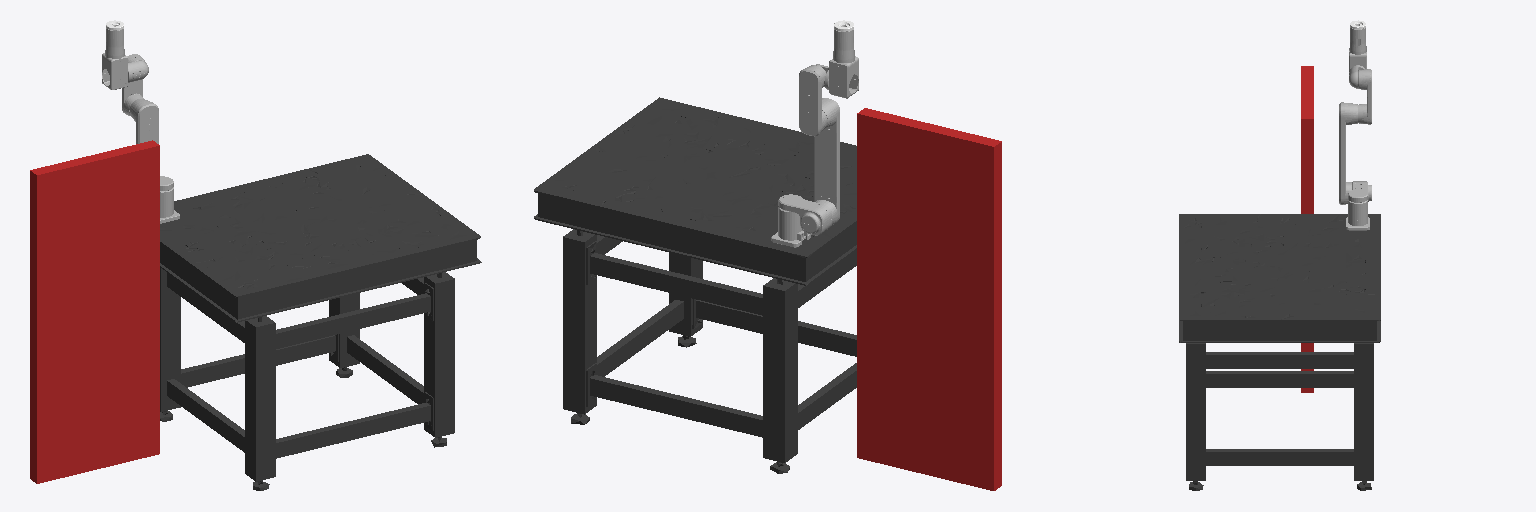
The robot description file, URDF, robot "single_arm":
<?xml version="1.0" ?>
<!-- =================================================================================== -->
<!-- |    This document was autogenerated by xacro from [local-path]/single_arm_ros2/src/single_arm_description/config/single_arm_demo.urdf.xacro | -->
<!-- |    EDITING THIS FILE BY HAND IS NOT RECOMMENDED                                 | -->
<!-- =================================================================================== -->
<robot name="single_arm">
  <!-- 在机械臂末端添加夹爪 -->
  <link name="world"/>
  <!-- 光学平台链接，使用你的 table.stl -->
  <link name="optical_table">
    <visual>
      <!-- 根据你的STL坐标系调整origin（例如：如果STL原点在底部中心，把平台表面抬到z=0） -->
      <origin rpy="0 0 0" xyz="0 0 0"/>
      <!-- 示例：假设table厚度0.3m，把表面抬到z=0，可自行调整 -->
      <geometry>
        <mesh filename="package://single_arm_description/meshes/visual/table.STL" scale="0.001 0.001 0.001"/>
        <!-- 如果是mm单位，scale=0.001 -->
      </geometry>
      <material name="table_gray">
        <color rgba="0.3 0.3 0.3 1.0"/>
        <!-- 深灰色，典型光学平台颜色 -->
      </material>
    </visual>
    <collision>
      <origin rpy="0 0 0" xyz="0 0 0"/>
      <!-- 与visual保持一致 -->
      <geometry>
        <mesh filename="package://single_arm_description/meshes/collision/table_simplified.STL" scale="0.001 0.001 0.001"/>
        <!-- 建议用简化版STL -->
      </geometry>
    </collision>
    <!-- 可选：添加惯性（粗略估计，质量和惯性根据实际平台调整） -->
    <inertial>
      <origin rpy="0 0 0" xyz="0 0 0"/>
      <mass value="50.0"/>
      <!-- 示例：50kg -->
      <inertia ixx="10.0" ixy="0.0" ixz="0.0" iyy="10.0" iyz="0.0" izz="15.0"/>
    </inertial>
  </link>
  <link name="obstacle_box">
    <visual>
      <!-- 底面放在平台表面（z=0），高度0.6m，中心抬高0.3m -->
      <origin rpy="0 0 1.5707963" xyz="-0.78 0.11 0.6"/>
      <geometry>
        <box size="0.05 0.5 1.2"/>
        <!-- x=0.4m, y=0.6m, z=0.6m，可自行调整 -->
      </geometry>
      <material name="obstacle_red">
        <color rgba="0.8 0.2 0.2 1.0"/>
        <!-- 红色，便于在RViz中识别 -->
      </material>
    </visual>
    <collision>
      <origin rpy="0 0 1.5707963" xyz="-0.78 0.11 0.6"/>
      <geometry>
        <box size="0.05 0.5 1.2"/>
      </geometry>
    </collision>
    <!-- 可选惯性 -->
    <inertial>
      <origin rpy="0 0 1.5707963" xyz="-0.78 0.11 0.6"/>
      <mass value="10.0"/>
      <inertia ixx="1.0" ixy="0" ixz="0" iyy="1.0" iyz="0" izz="1.0"/>
    </inertial>
  </link>
  <!-- 障碍物固定到world（与平台同层级） -->
  <joint name="obstacle_box_joint" type="fixed">
    <parent link="world"/>
    <child link="obstacle_box"/>
    <!-- 位置：放在平台右边（x正方向偏移1.2m），y=0，底面z=0 -->
    <!-- 你可以根据实际平台尺寸调整偏移量 -->
    <origin rpy="0 0 0" xyz="0 0 0"/>
  </joint>
  <!-- 把光学平台固定到world（或parent） -->
  <joint name="optical_table_joint" type="fixed">
    <parent link="world"/>
    <child link="optical_table"/>
    <origin rpy="0 0 0" xyz="0 0 0.8"/>
    <!-- 允许调用时指定整体偏移，例如放在房间某个位置 -->
  </joint>
  <link name="base_link0">
    <inertial>
      <origin rpy="0 0 0" xyz="0.000175438965895703 0.000532268611608213 0.0522669336069407"/>
      <mass value="0.294119348658744"/>
      <inertia ixx="0.00032400532756564" ixy="-5.40018128899478E-07" ixz="2.80958833443407E-06" iyy="0.000288426609563467" iyz="4.70285799717824E-06" izz="0.00022606419233657"/>
    </inertial>
    <visual>
      <origin rpy="0 0 0" xyz="0 0 0"/>
      <geometry>
        <mesh filename="package://single_arm_description/meshes/visual/base_link0.STL"/>
      </geometry>
      <material name="">
        <color rgba="0.752941176470588 0.752941176470588 0.752941176470588 1"/>
      </material>
    </visual>
    <collision>
      <origin rpy="0 0 0" xyz="0 0 0"/>
      <geometry>
        <mesh filename="package://single_arm_description/meshes/collision/base_link0_simplified.STL"/>
      </geometry>
    </collision>
  </link>
  <joint name="base_link0_joint" type="fixed">
    <parent link="optical_table"/>
    <child link="base_link0"/>
    <origin rpy="0 0 0" xyz="-0.39 0.31 0.0"/>
    <axis xyz="0 0 1"/>
  </joint>
  <link name="Empty_Link1">
    <inertial>
      <origin rpy="0 0 0" xyz="-0.0698160338667713 0.0143691484806762 0.0110780451265005"/>
      <mass value="0.0556965417664696"/>
      <inertia ixx="2.70633960140179E-05" ixy="6.26519650974738E-06" ixz="-7.57900465240318E-06" iyy="0.000122679596314603" iyz="-1.35387556070585E-08" izz="0.000131443137410343"/>
    </inertial>
    <visual>
      <origin rpy="0 0 0" xyz="0 0 0"/>
      <geometry>
        <mesh filename="package://single_arm_description/meshes/visual/Empty_Link1.STL"/>
      </geometry>
      <material name="">
        <color rgba="0.752941176470588 0.752941176470588 0.752941176470588 1"/>
      </material>
    </visual>
    <collision>
      <origin rpy="0 0 0" xyz="0 0 0"/>
      <geometry>
        <mesh filename="package://single_arm_description/meshes/collision/Empty_Link1_simplified.STL"/>
      </geometry>
    </collision>
  </link>
  <joint name="joint1" type="revolute">
    <origin rpy="0 0 0" xyz="0 0 0.0962"/>
    <parent link="base_link0"/>
    <child link="Empty_Link1"/>
    <axis xyz="0 0 1"/>
    <limit effort="0" lower="-3.14" upper="3.14" velocity="0"/>
  </joint>
  <link name="Empty_Link2">
    <inertial>
      <origin rpy="0 0 0" xyz="0.181439379971025 -0.000243727779993763 0.0563566127647854"/>
      <mass value="0.136910629397679"/>
      <inertia ixx="6.36253645667139E-05" ixy="-2.59780400404477E-07" ixz="3.91165512368072E-05" iyy="0.00232680960984668" iyz="2.19730518054456E-07" izz="0.00235460000620241"/>
    </inertial>
    <visual>
      <origin rpy="0 0 0" xyz="0 0 0"/>
      <geometry>
        <mesh filename="package://single_arm_description/meshes/visual/Empty_Link2.STL"/>
      </geometry>
      <material name="">
        <color rgba="0.752941176470588 0.752941176470588 0.752941176470588 1"/>
      </material>
    </visual>
    <collision>
      <origin rpy="0 0 0" xyz="0 0 0"/>
      <geometry>
        <mesh filename="package://single_arm_description/meshes/collision/Empty_Link2_simplified.STL"/>
      </geometry>
    </collision>
  </link>
  <joint name="joint2" type="revolute">
    <origin rpy="1.5708 -1.5708 0" xyz="-0.0965 0 0"/>
    <parent link="Empty_Link1"/>
    <child link="Empty_Link2"/>
    <axis xyz="0 0 -1"/>
    <limit effort="0" lower="-1.57" upper="1.57" velocity="0"/>
  </joint>
  <link name="Empty_Link3">
    <inertial>
      <origin rpy="0 0 0" xyz="0.0769703538179346 0.0011973381819983 -0.036630608037162"/>
      <mass value="0.071034581827702"/>
      <inertia ixx="2.84299236389363E-05" ixy="-7.63642211997418E-08" ixz="-3.24526804421142E-06" iyy="0.00034423782372923" iyz="7.76643137920171E-08" izz="0.000355286583426244"/>
    </inertial>
    <visual>
      <origin rpy="0 0 0" xyz="0 0 0"/>
      <geometry>
        <mesh filename="package://single_arm_description/meshes/visual/Empty_Link3.STL"/>
      </geometry>
      <material name="">
        <color rgba="0.752941176470588 0.752941176470588 0.752941176470588 1"/>
      </material>
    </visual>
    <collision>
      <origin rpy="0 0 0" xyz="0 0 0"/>
      <geometry>
        <mesh filename="package://single_arm_description/meshes/collision/Empty_Link3_simplified.STL"/>
      </geometry>
    </collision>
  </link>
  <joint name="joint3" type="revolute">
    <origin rpy="0 0 0" xyz="0.3465 0 0"/>
    <parent link="Empty_Link2"/>
    <child link="Empty_Link3"/>
    <axis xyz="0 0 -1"/>
    <limit effort="0" lower="-2.44" upper="2.44" velocity="0"/>
  </joint>
  <link name="Empty_Link4">
    <inertial>
      <origin rpy="0 0 0" xyz="0.000159906636227225 -0.0237750547972229 0.0101176007477914"/>
      <mass value="0.022184932643385"/>
      <inertia ixx="2.56758689481119E-05" ixy="2.79874296577121E-08" ixz="5.63284180274909E-09" iyy="1.10340049734087E-05" iyz="-4.22353915692278E-06" izz="1.97133811530173E-05"/>
    </inertial>
    <visual>
      <origin rpy="0 0 0" xyz="0 0 0"/>
      <geometry>
        <mesh filename="package://single_arm_description/meshes/visual/Empty_Link4.STL"/>
      </geometry>
      <material name="">
        <color rgba="0.752941176470588 0.752941176470588 0.752941176470588 1"/>
      </material>
    </visual>
    <collision>
      <origin rpy="0 0 0" xyz="0 0 0"/>
      <geometry>
        <mesh filename="package://single_arm_description/meshes/collision/Empty_Link4.STL"/>
      </geometry>
    </collision>
  </link>
  <joint name="joint4" type="revolute">
    <origin rpy="0 0 3.1416" xyz="0.15 0 0"/>
    <parent link="Empty_Link3"/>
    <child link="Empty_Link4"/>
    <axis xyz="0 0 -1"/>
    <limit effort="0" lower="-0.69" upper="2.61" velocity="0"/>
  </joint>
  <link name="Empty_Link5">
    <inertial>
      <origin rpy="0 0 0" xyz="4.0073722048969E-05 0.0692610166439792 0.00106706924657128"/>
      <mass value="0.0873760863924216"/>
      <inertia ixx="0.000178750470884079" ixy="-5.70038950626815E-08" ixz="2.3383845024287E-08" iyy="8.0271837143644E-05" iyz="2.62896263229073E-06" izz="0.000152690614441042"/>
    </inertial>
    <visual>
      <origin rpy="0 0 0" xyz="0 0 0"/>
      <geometry>
        <mesh filename="package://single_arm_description/meshes/visual/Empty_Link5.STL"/>
      </geometry>
      <material name="">
        <color rgba="0.752941176470588 0.752941176470588 0.752941176470588 1"/>
      </material>
    </visual>
    <collision>
      <origin rpy="0 0 0" xyz="0 0 0"/>
      <geometry>
        <mesh filename="package://single_arm_description/meshes/collision/Empty_Link5_simplified.STL"/>
      </geometry>
    </collision>
  </link>
  <joint name="joint5" type="revolute">
    <origin rpy="1.5708 1.5708 3.1416" xyz="0 -0.0965 0"/>
    <!-- rpy="1.5708 1.5708 0" /> -->
    <parent link="Empty_Link4"/>
    <child link="Empty_Link5"/>
    <axis xyz="0 0 -1"/>
    <limit effort="0" lower="-3.14" upper="3.14" velocity="0"/>
  </joint>
  <link name="Empty_Link6">
    <inertial>
      <origin rpy="0 0 0" xyz="1.77592382908782E-07 1.02533046673927E-07 0.00864548755955175"/>
      <mass value="0.0269583221049951"/>
      <inertia ixx="8.03963570266054E-06" ixy="7.7682030591729E-11" ixz="-6.48485539118529E-12" iyy="8.039546003178E-06" iyz="-3.74403298061715E-12" izz="1.53036652434403E-05"/>
    </inertial>
    <visual>
      <origin rpy="0 0 0" xyz="0 0 0"/>
      <geometry>
        <mesh filename="package://single_arm_description/meshes/visual/Empty_Link6.STL"/>
      </geometry>
      <material name="">
        <color rgba="1 1 1 1"/>
      </material>
    </visual>
    <collision>
      <origin rpy="0 0 0" xyz="0 0 0"/>
      <geometry>
        <mesh filename="package://single_arm_description/meshes/collision/Empty_Link6_simplified.STL"/>
      </geometry>
    </collision>
  </link>
  <joint name="joint6" type="revolute">
    <origin rpy="-1.5708 0 0" xyz="0 0.185 0"/>
    <parent link="Empty_Link5"/>
    <child link="Empty_Link6"/>
    <axis xyz="0 0 1"/>
    <limit effort="0" lower="-3.14" upper="3.14" velocity="0"/>
  </joint>
  <!-- <xacro:gripper name="gripper" parent="Empty_Link6">
    <origin xyz="0 0 0.019" rpy="0 0 0"/>  
  </xacro:gripper> -->
  <ros2_control name="single_arm" type="system">
    <hardware>
      <plugin>single_arm_hardware_interface/SingleArmHardwareInterface</plugin>
      <param name="namespace"></param>
    </hardware>
    <joint name="joint1">
      <command_interface name="position"/>
      <command_interface name="effort"/>
      <state_interface name="position"/>
      <state_interface name="velocity"/>
      <param name="can_id">0x01</param>
      <param name="position_offset">0</param>
      <param name="motor_type">whj</param>
      <!-- 新增：固定用 WHJ -->
      <param name="can_interface">can1</param>
      <!-- 新增：固定用 can1 -->
    </joint>
    <joint name="joint2">
      <command_interface name="position"/>
      <command_interface name="effort"/>
      <state_interface name="position"/>
      <state_interface name="velocity"/>
      <param name="can_id">0x02</param>
      <param name="position_offset">0</param>
      <param name="motor_type">whj</param>
      <!-- 新增：固定用 WHJ -->
      <param name="can_interface">can1</param>
      <!-- 新增：固定用 can1 -->
    </joint>
    <joint name="joint3">
      <command_interface name="position"/>
      <command_interface name="effort"/>
      <state_interface name="position"/>
      <state_interface name="velocity"/>
      <param name="can_id">0x03</param>
      <param name="position_offset">0</param>
      <param name="motor_type">whj</param>
      <!-- 新增：固定用 WHJ -->
      <param name="can_interface">can1</param>
      <!-- 新增：固定用 can1 -->
    </joint>
    <joint name="joint4">
      <command_interface name="position"/>
      <command_interface name="effort"/>
      <state_interface name="position"/>
      <state_interface name="velocity"/>
      <param name="can_id">0x04</param>
      <param name="position_offset">0</param>
      <param name="motor_type">rmd</param>
      <!-- 新增：固定用 rmd -->
      <param name="can_interface">can0</param>
      <!-- 新增：固定用 can0 -->
    </joint>
    <joint name="joint5">
      <command_interface name="position"/>
      <command_interface name="effort"/>
      <state_interface name="position"/>
      <state_interface name="velocity"/>
      <param name="can_id">0x05</param>
      <param name="position_offset">0</param>
      <param name="motor_type">rmd</param>
      <!-- 新增：固定用 rmd -->
      <param name="can_interface">can0</param>
      <!-- 新增：固定用 can0 -->
    </joint>
    <joint name="joint6">
      <command_interface name="position"/>
      <command_interface name="effort"/>
      <state_interface name="position"/>
      <state_interface name="velocity"/>
      <param name="can_id">0x06</param>
      <param name="position_offset">0</param>
      <param name="motor_type">rmd</param>
      <!-- 新增：固定用 rmd -->
      <param name="can_interface">can0</param>
      <!-- 新增：固定用 can0 -->
    </joint>
  </ros2_control>
</robot>

--- Render facts (derived) ---
Views: 3 orthographic renders of the robot side by side, from view 1: azimuth 30°, elevation 25°; view 2: azimuth 150°, elevation 25°; view 3: azimuth 270°, elevation 25°.
Robot: single_arm — 10 links, 9 joints (6 revolute, 3 fixed); root link world; default pose: all joints at 0.
Links seen in each view (by area): view 1: optical_table, obstacle_box, Empty_Link5, Empty_Link2, Empty_Link3; view 2: optical_table, obstacle_box, Empty_Link2, Empty_Link3, Empty_Link5, Empty_Link1, base_link0; view 3: optical_table, obstacle_box, Empty_Link2, Empty_Link5, Empty_Link3, base_link0.
Link boxes in pixels (x1,y1,x2,y2): optical_table: (160,154,481,490); obstacle_box: (30,140,159,483); Empty_Link5: (102,28,127,89); Empty_Link2: (130,99,158,143); Empty_Link3: (122,54,146,116); optical_table: (534,97,856,473); obstacle_box: (857,108,1001,490); Empty_Link2: (814,98,839,224); Empty_Link3: (799,65,827,136); Empty_Link5: (829,29,858,98); Empty_Link1: (778,194,831,235); base_link0: (771,207,810,247); optical_table: (1179,214,1380,490); obstacle_box: (1301,66,1313,392); Empty_Link2: (1339,102,1357,204); Empty_Link5: (1349,27,1366,70); Empty_Link3: (1358,69,1371,124); base_link0: (1346,200,1369,230).
Bounding box of the posed robot: 1.53 × 0.8 × 1.59 m (x, y, z).
8 mesh visuals loaded from 8 distinct referenced files (8 binary STL).
